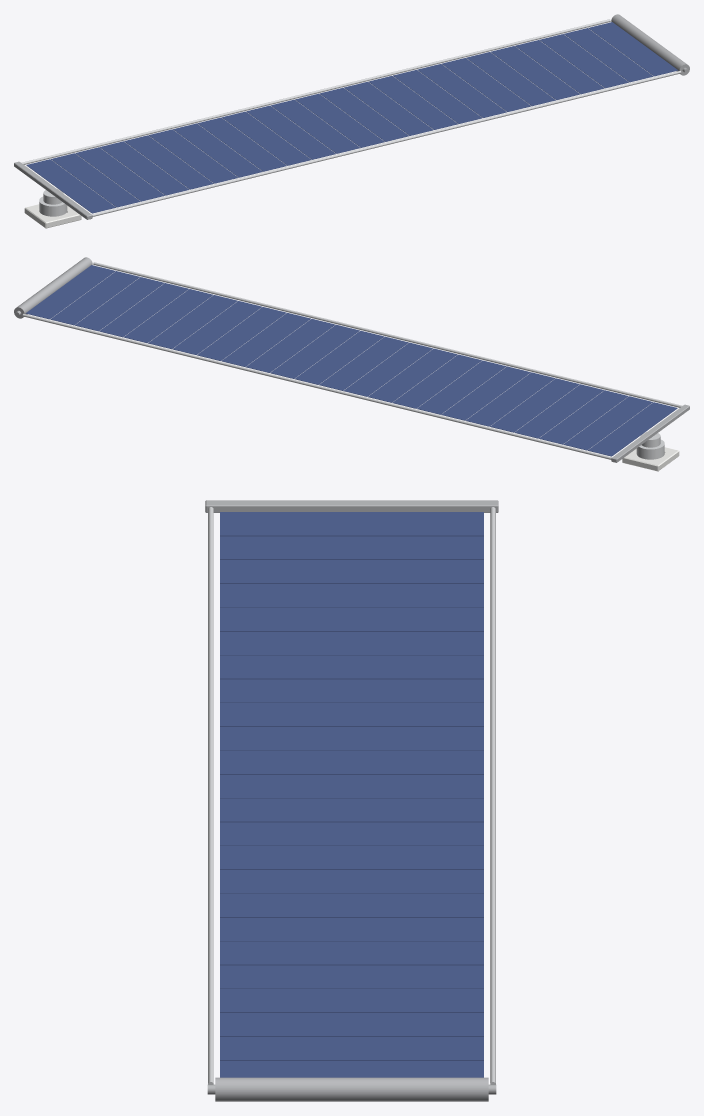
File: ax_power_01_roll_out_array_l_deployed.glb
3 renders of one model, top to bottom at view 1: azimuth 30°, elevation 25°; view 2: azimuth 150°, elevation 25°; view 3: azimuth 270°, elevation 25°, orthographic. The views are drawn at different scales.
Parts seen in each view (by area): view 1: panel_blanket, boom_1, boom_2, panel_roll, yoke, mount_block, gimbal; view 2: panel_blanket, boom_2, boom_1, panel_roll, yoke, mount_block, gimbal; view 3: panel_blanket, panel_roll, yoke, boom_1, boom_2.
Part boxes in pixels (x1,y1,x2,y2): panel_blanket: [26, 22, 678, 213]; boom_1: [92, 70, 681, 216]; boom_2: [21, 19, 610, 164]; panel_roll: [611, 14, 689, 75]; yoke: [14, 161, 92, 219]; mount_block: [24, 204, 81, 228]; gimbal: [39, 189, 67, 216]; panel_blanket: [25, 265, 677, 456]; boom_2: [22, 313, 611, 459]; boom_1: [93, 262, 682, 407]; panel_roll: [14, 257, 92, 318]; yoke: [611, 404, 689, 462]; mount_block: [622, 447, 679, 471]; gimbal: [636, 432, 664, 459]; panel_blanket: [220, 512, 483, 1077]; panel_roll: [207, 1077, 496, 1101]; yoke: [205, 500, 498, 512]; boom_1: [208, 507, 213, 1084]; boom_2: [490, 507, 495, 1084].
Bounding box in the file's own units: 12.71 × 0.6175 × 2.6.
